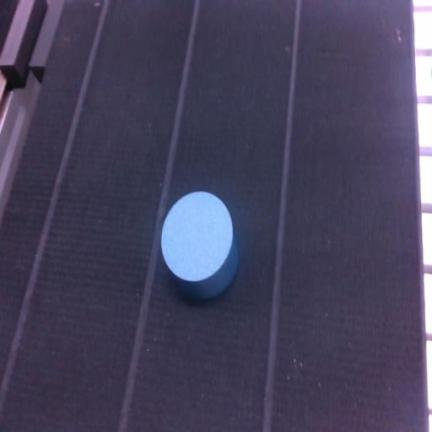cylinder: (161, 192, 237, 300)
